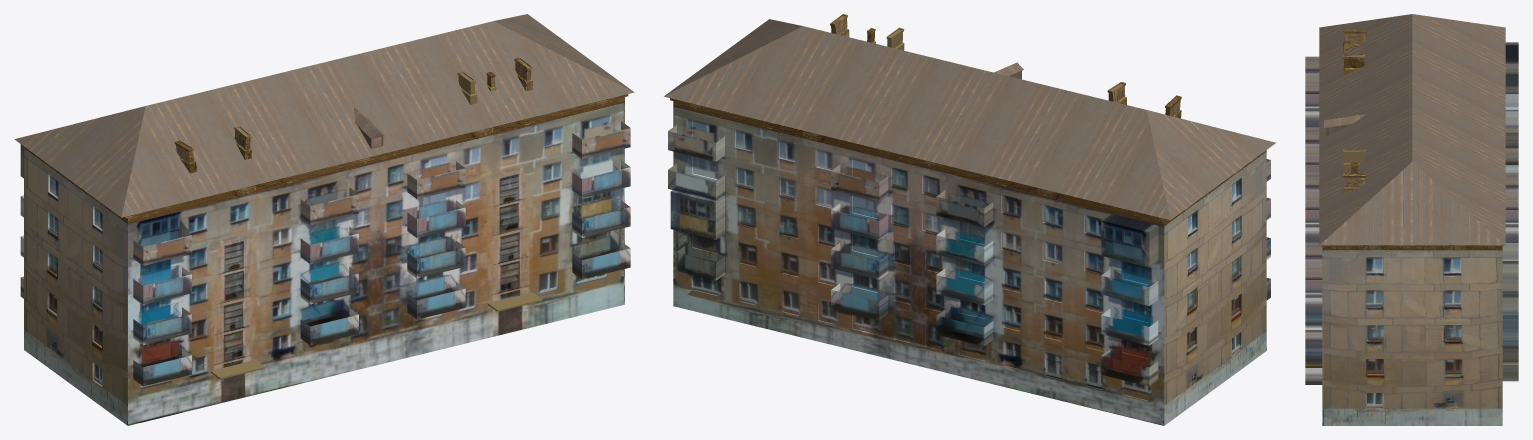
The model's file is khrushchevka.glb.
3 views of the same model, side by side, from view 1: azimuth 30°, elevation 25°; view 2: azimuth 150°, elevation 25°; view 3: azimuth 270°, elevation 25° (orthographic). The views are drawn at different scales.
Visible parts, largest first — view 1: Cube.003_4, Cube.003_3, Cube.003_0, Cube.003_1, Cube.003_2; view 2: Cube.003_0, Cube.003_3, Cube.003_1, Cube.003_2; view 3: Cube.003_3, Cube.003_1, Cube.003_0, Cube.003_2.
Part boxes in pixels (bbox=[...]): Cube.003_4: bbox=[128, 103, 624, 425]; Cube.003_3: bbox=[14, 14, 634, 217]; Cube.003_0: bbox=[20, 121, 630, 386]; Cube.003_1: bbox=[24, 148, 127, 425]; Cube.003_2: bbox=[24, 57, 628, 379]; Cube.003_0: bbox=[668, 107, 1270, 425]; Cube.003_3: bbox=[664, 19, 1275, 220]; Cube.003_1: bbox=[1164, 152, 1266, 425]; Cube.003_2: bbox=[670, 14, 1266, 226]; Cube.003_3: bbox=[1319, 14, 1505, 245]; Cube.003_1: bbox=[1322, 250, 1502, 425]; Cube.003_0: bbox=[1305, 42, 1518, 408]; Cube.003_2: bbox=[1321, 30, 1503, 250].
Bounding box in the file's own units: 31.42 × 15.5 × 13.02.
Materials: 5 (5 with a texture image).
